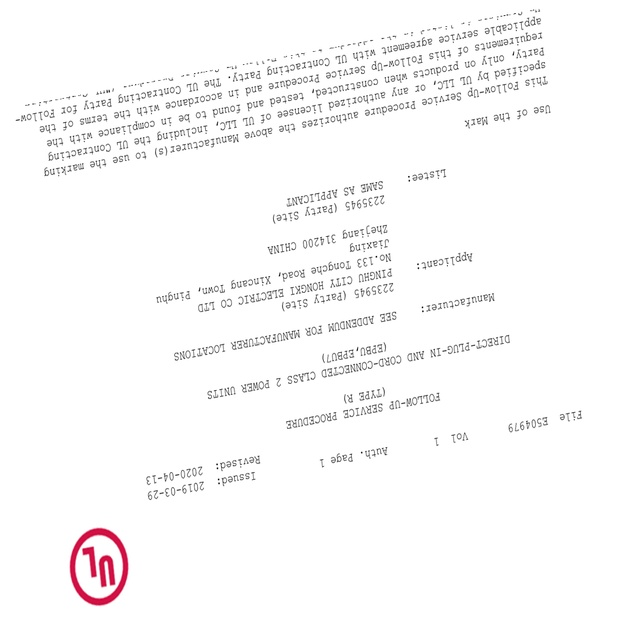ul: (68, 526, 130, 608)
